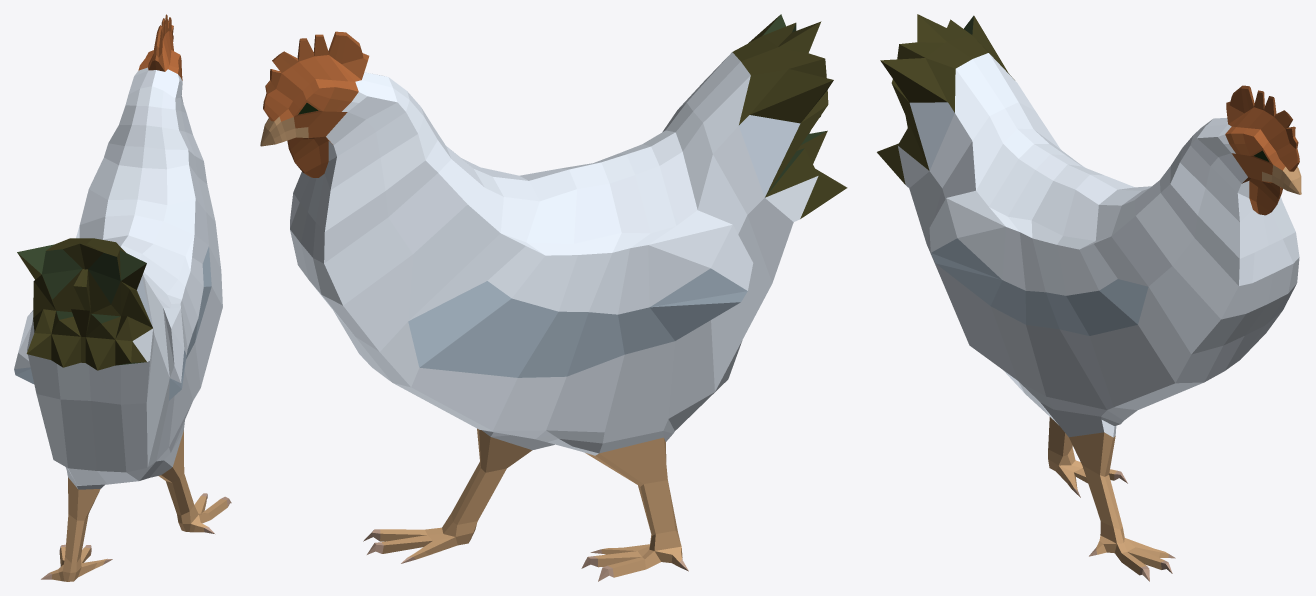
File: chicken.glb
The picture shows the model from 3 angles, left to right: view 1: azimuth 30°, elevation 25°; view 2: azimuth 150°, elevation 25°; view 3: azimuth 270°, elevation 25°; orthographic projection. The views are drawn at different scales.
Parts seen in each view (by area): view 1: Object_4; view 2: Object_4; view 3: Object_4.
Part boxes in pixels (<box>): Object_4: <box>14,14,231,581</box>; Object_4: <box>260,14,847,581</box>; Object_4: <box>877,14,1301,581</box>.
Size of the model in its own units: 1.55 by 2.12 by 1.69.
Materials: 1 (1 with a texture image).
